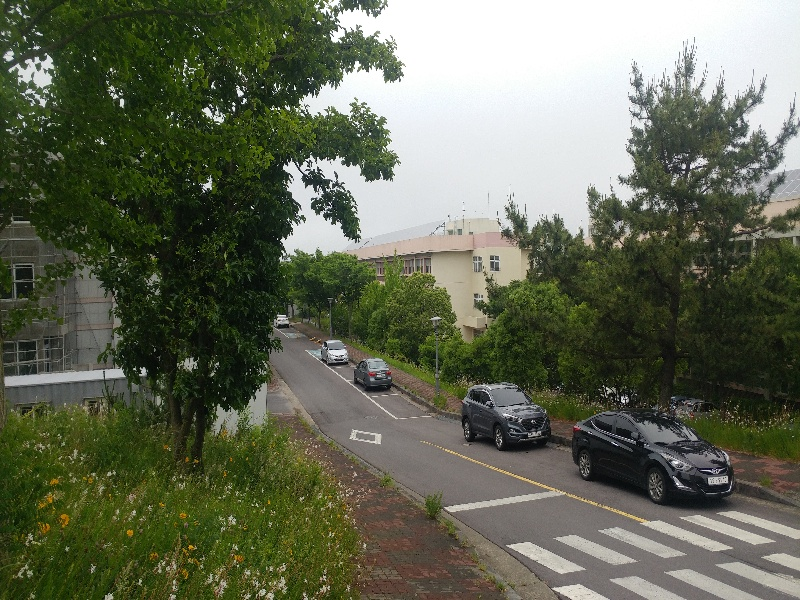College Of Education: (342, 220, 546, 336)
